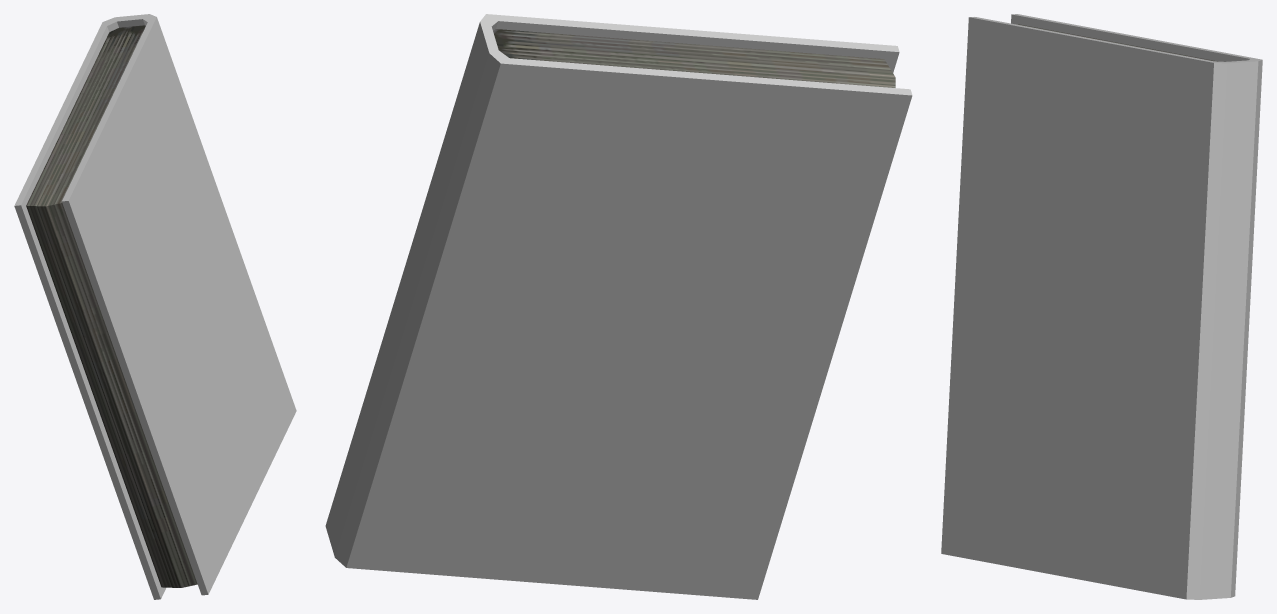
Rendered from BookShotgun_Real.fbx.
3 views of the same model, side by side, from view 1: azimuth 30°, elevation 25°; view 2: azimuth 150°, elevation 25°; view 3: azimuth 270°, elevation 25° (orthographic). The views are drawn at different scales.
Visible parts, largest first — view 1: GEAR_BookGunsmithing.001; view 2: GEAR_BookGunsmithing.001; view 3: GEAR_BookGunsmithing.001.
Boxes of the visible parts, x1,y1,x2,y2 form: GEAR_BookGunsmithing.001: [14, 14, 296, 599]; GEAR_BookGunsmithing.001: [325, 14, 912, 599]; GEAR_BookGunsmithing.001: [941, 14, 1262, 599].
Size of the model in its own units: 45.32 by 58.7 by 31.45.
